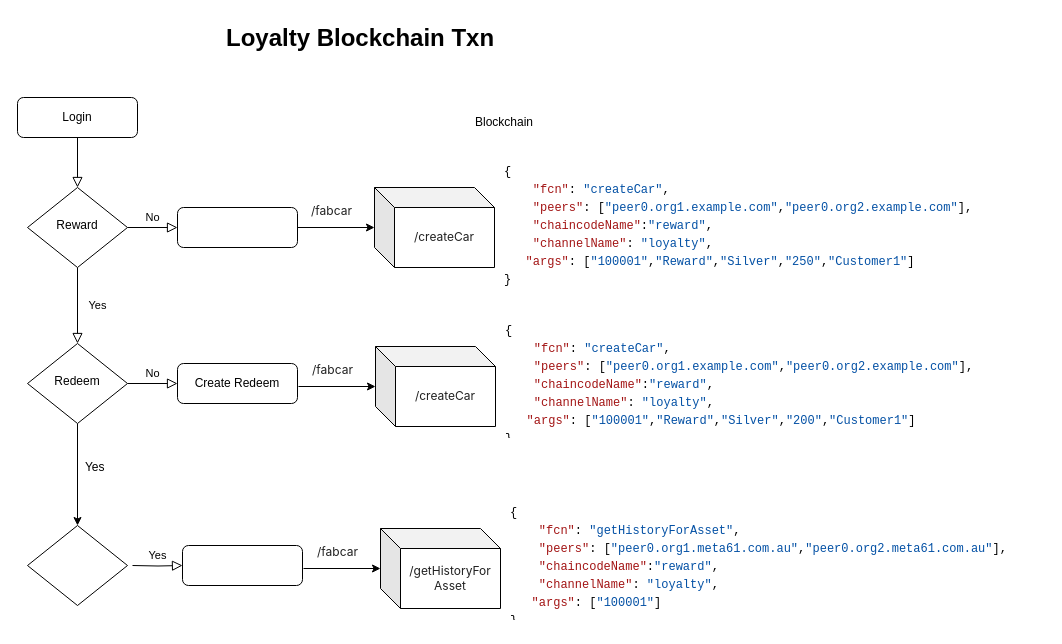
Some shapes in this 1062 by 644 pixel diagram are drawn without their labels. Here are the shapes that lost their labels. From the top down, the centre of each, then its label:
point (237, 227): Create Reward
point (77, 565): History
point (242, 565): getHistoryForAsset
